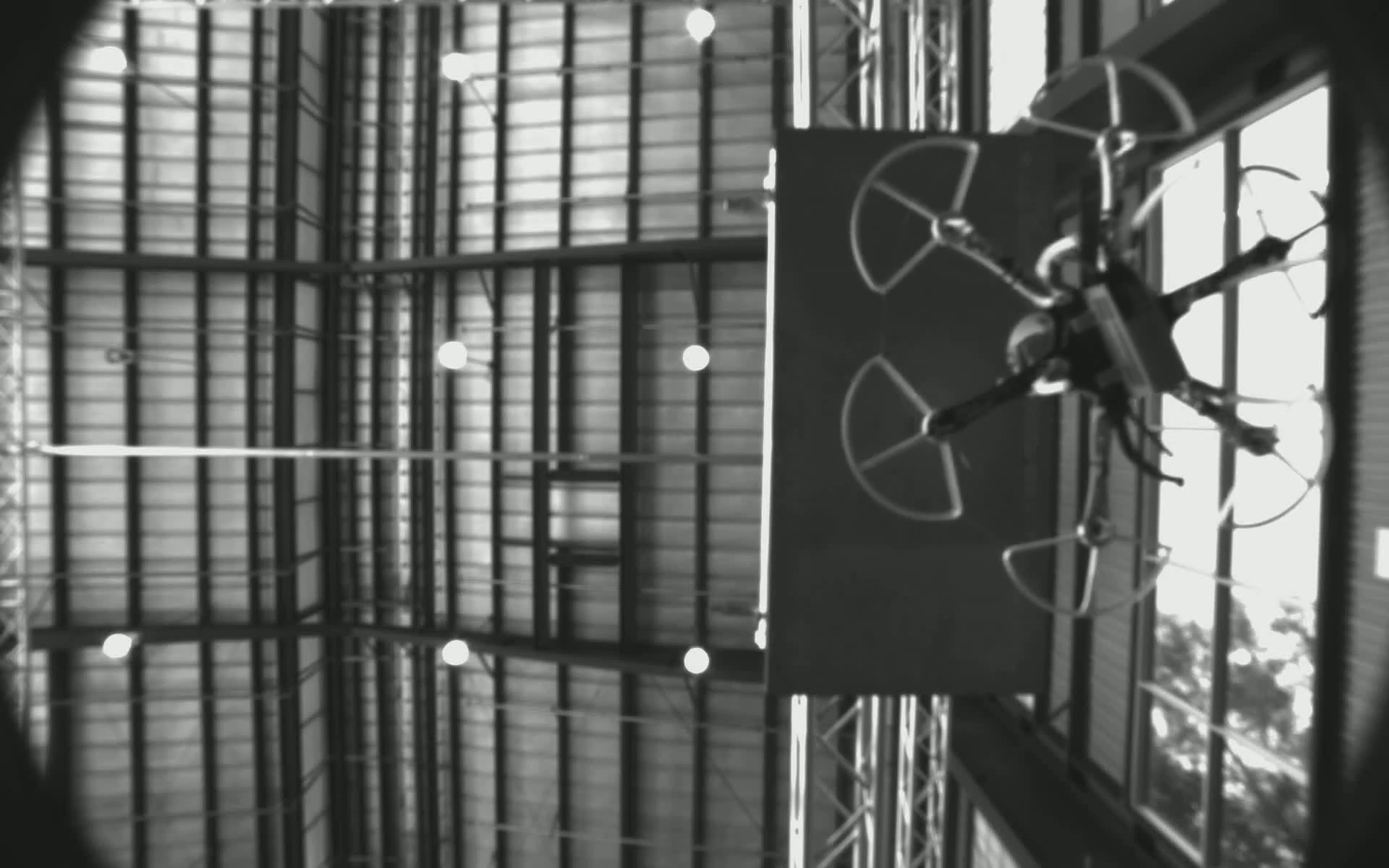drone: (827, 49, 1369, 635)
